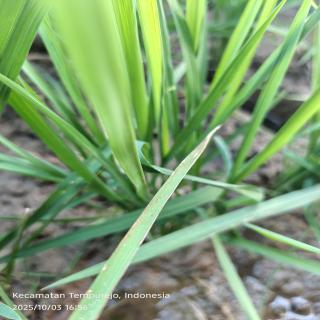bercak-Cokelat: (123, 179, 182, 241)
